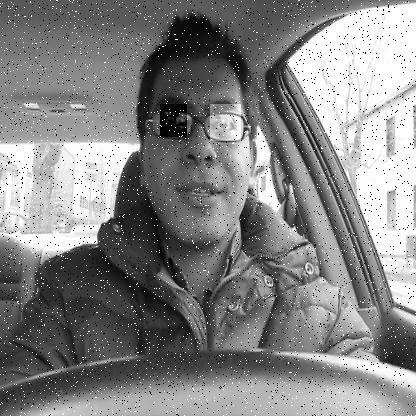seatbelt: (130, 7, 302, 351)
